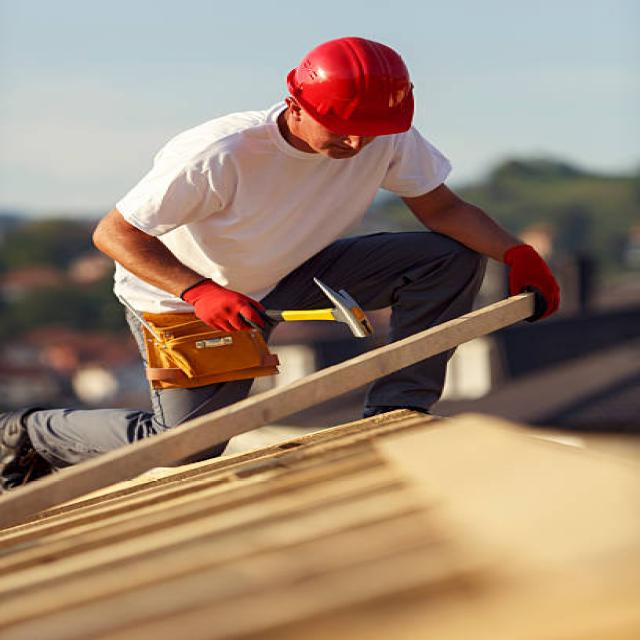gloves: (179, 279, 279, 338), (496, 244, 568, 321)
